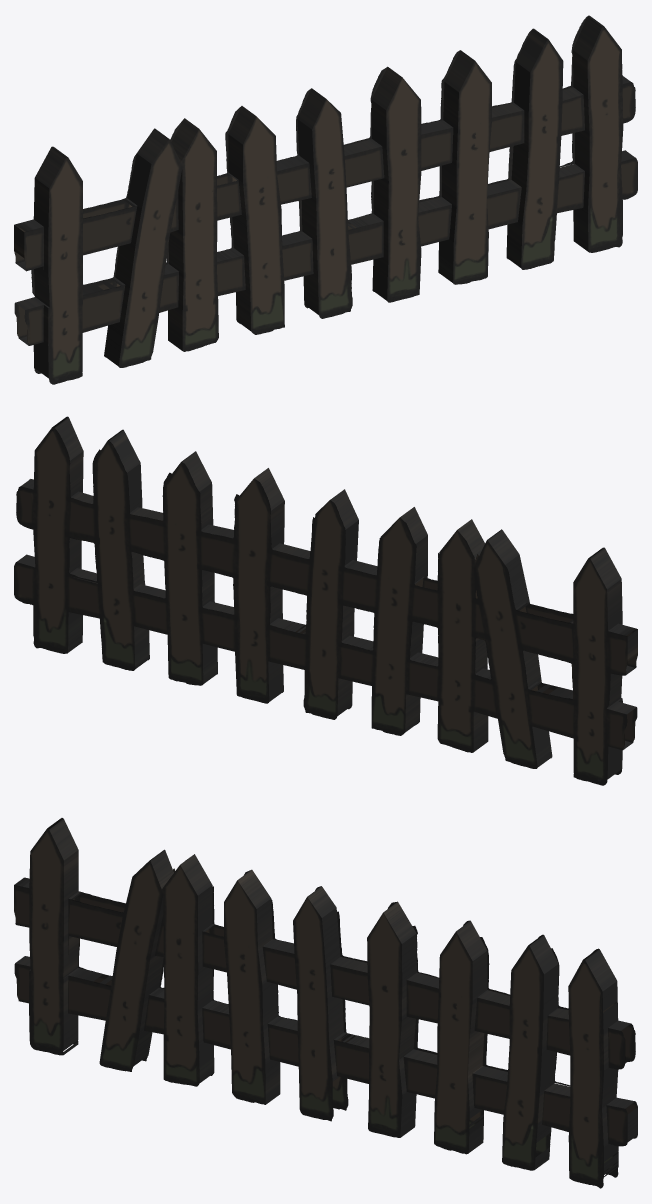
The model's file is fence.fbx.
3 renders of one model, top to bottom at view 1: azimuth 30°, elevation 25°; view 2: azimuth 150°, elevation 25°; view 3: azimuth 330°, elevation 25°, orthographic.
Parts seen in each view (by area): view 1: Plane; view 2: Plane; view 3: Plane.
Part boxes in pixels (bbox=[...]): Plane: bbox=[14, 15, 637, 384]; Plane: bbox=[14, 416, 637, 785]; Plane: bbox=[14, 818, 637, 1188].
Size of the model in its own units: 139 by 49.1 by 5.76.
